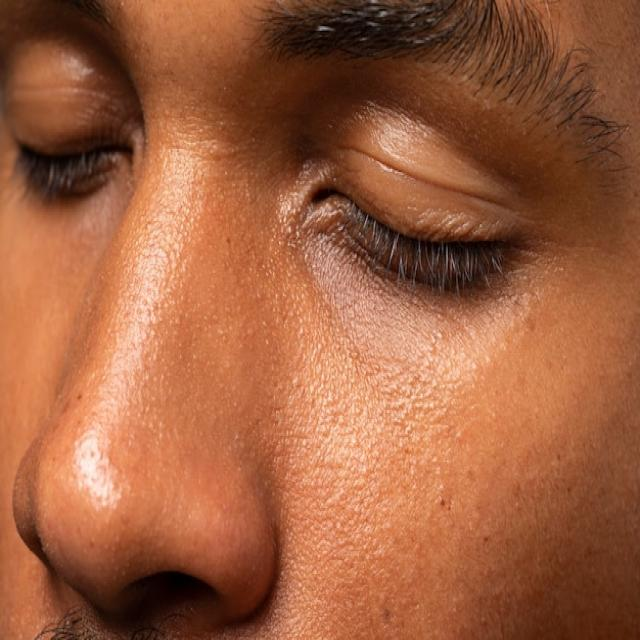oily: (22, 26, 618, 550)
